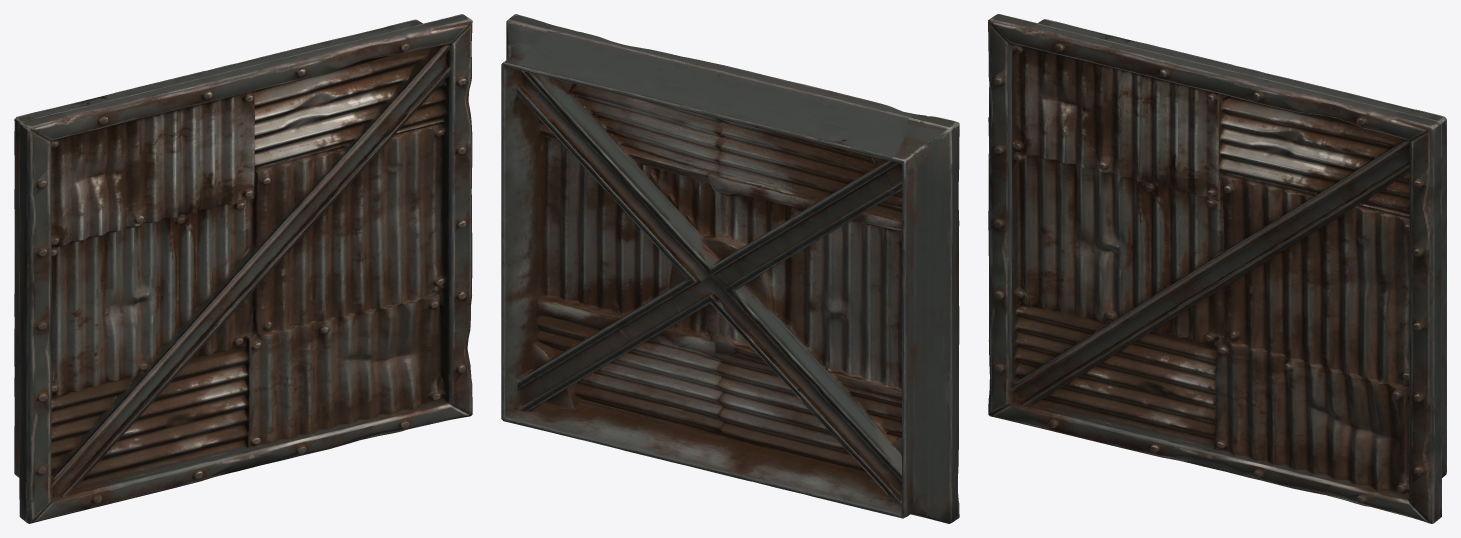
Rendered from building_gate.glb.
3 renders of one model, left to right at view 1: azimuth 30°, elevation 25°; view 2: azimuth 150°, elevation 25°; view 3: azimuth 330°, elevation 25°, orthographic.
Visible parts, largest first — view 1: Mesh_0; view 2: Mesh_0; view 3: Mesh_0.
Boxes of the visible parts, bbox=[...] form: Mesh_0: bbox=[14, 14, 472, 523]; Mesh_0: bbox=[501, 14, 959, 523]; Mesh_0: bbox=[988, 14, 1446, 523].
Size of the model in its own units: 4.5 by 3.83 by 0.6596.
1 material, 1 textured.
